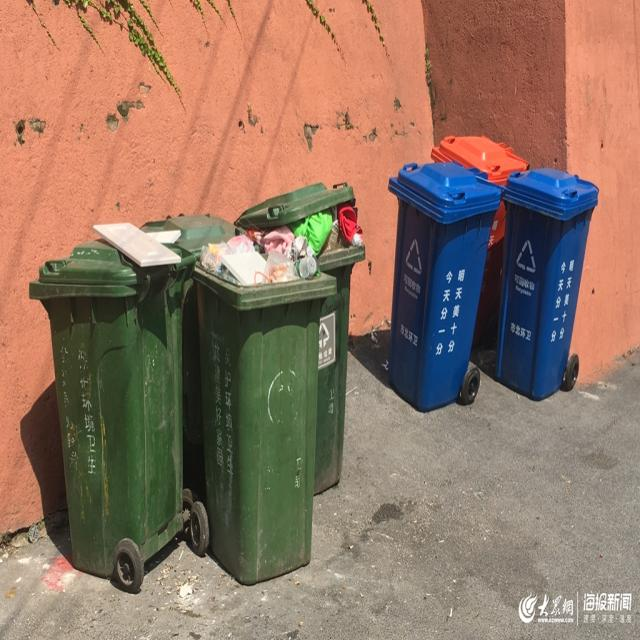garbage_bin: (388, 160, 502, 410), (496, 169, 598, 399)
overflow: (28, 220, 196, 577), (194, 235, 335, 588), (237, 181, 365, 496)
